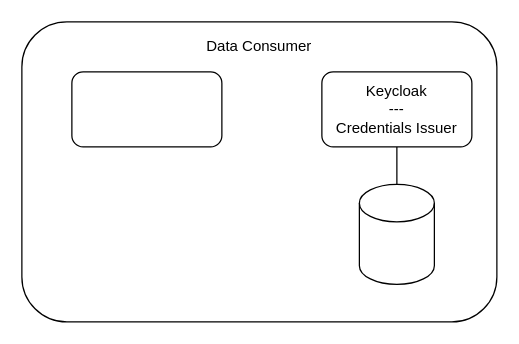
Some shapes in this 519 by 344 pixel diagram are drawn without their labels. The shapes that lost their labels are listed below. From the top down, each one's centre as x and y in pixels, then its label:
At (x=146, y=109): "did-helper".
At (x=396, y=233): "Postgresql".
